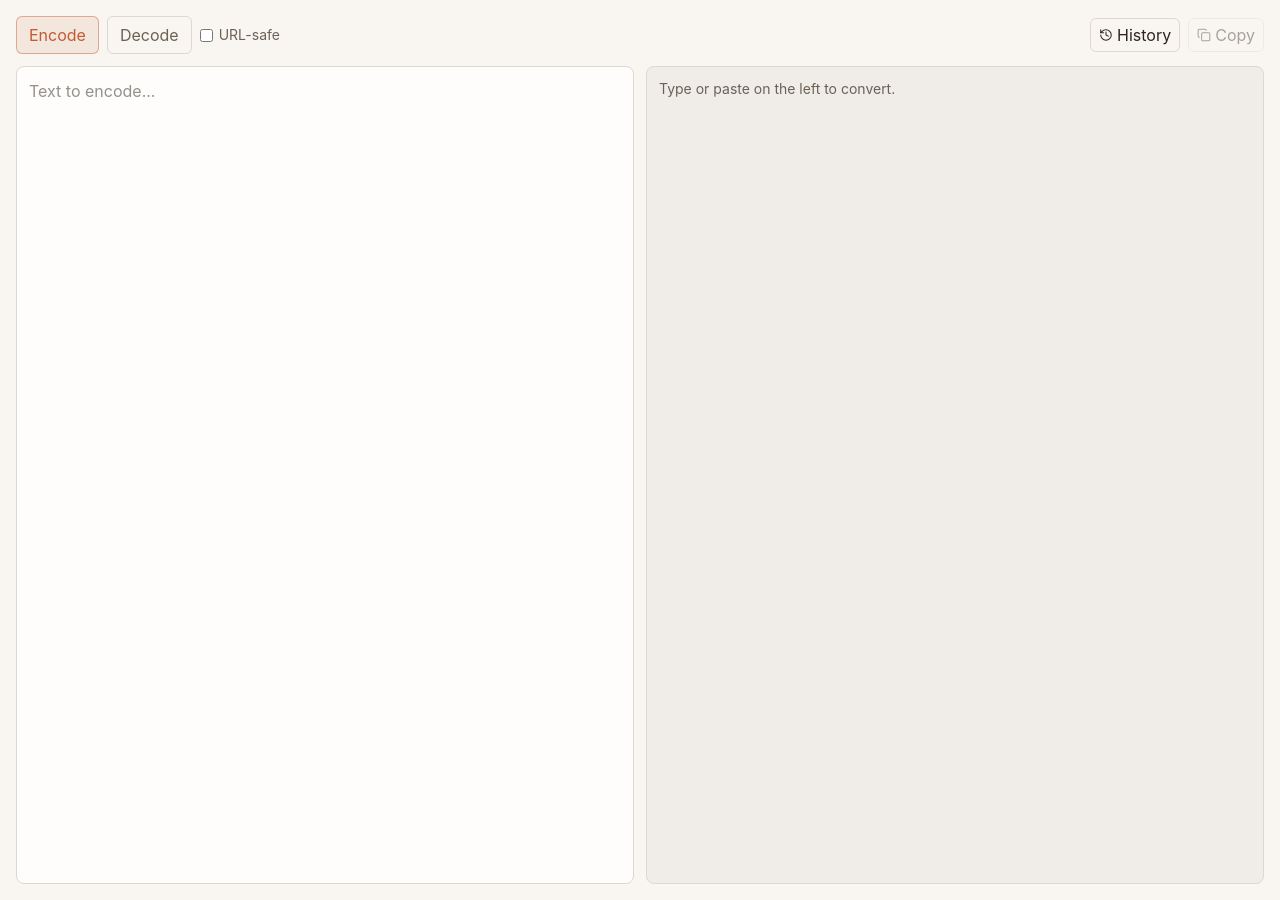
Test: Base64Tool › shows an error when decoding garbage
Click the button "Decode": (149, 35) top-left (107, 16), bottom-right (192, 54)
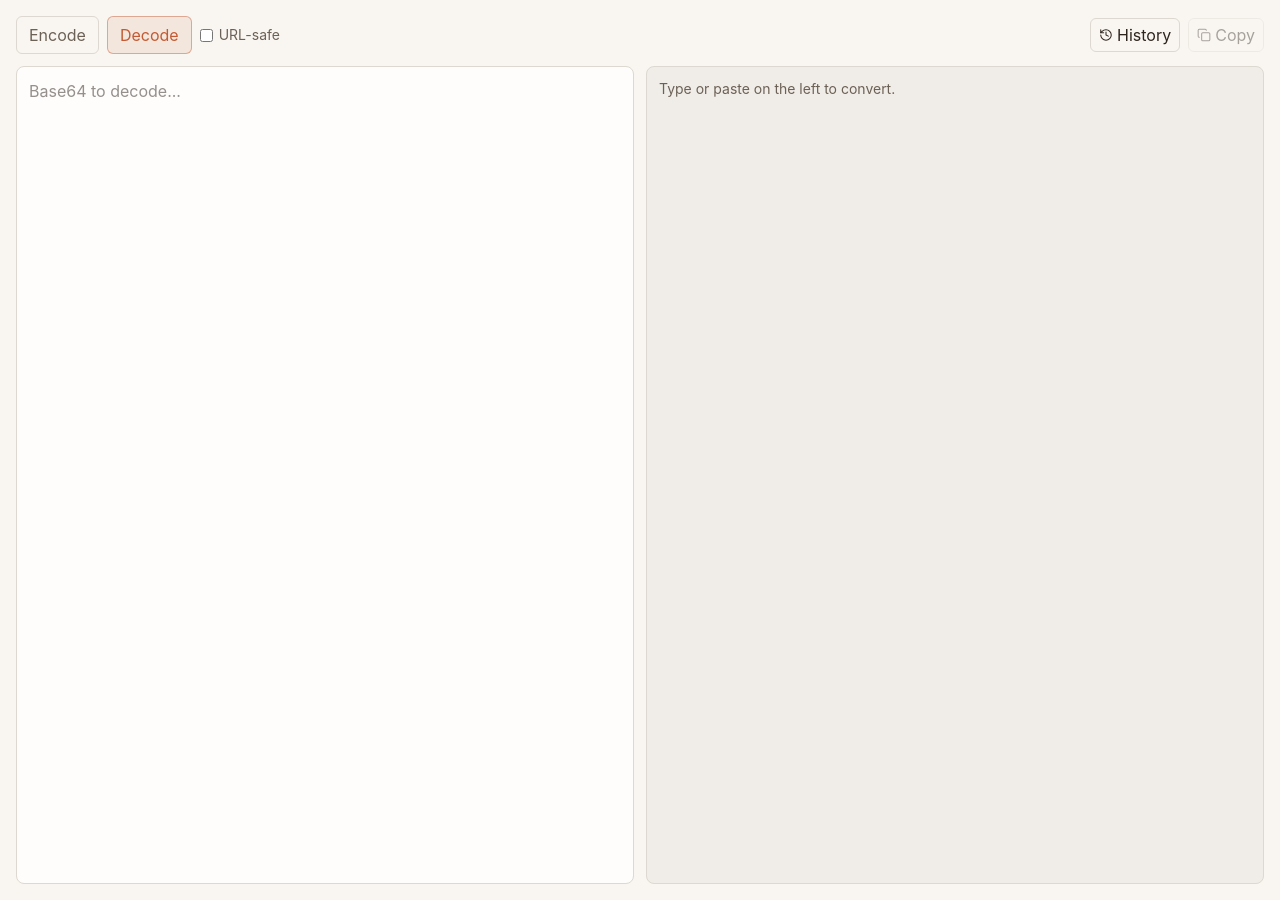
In the text box named "Base64 input": (325, 475) top-left (16, 66), bottom-right (634, 884), type "!!!"
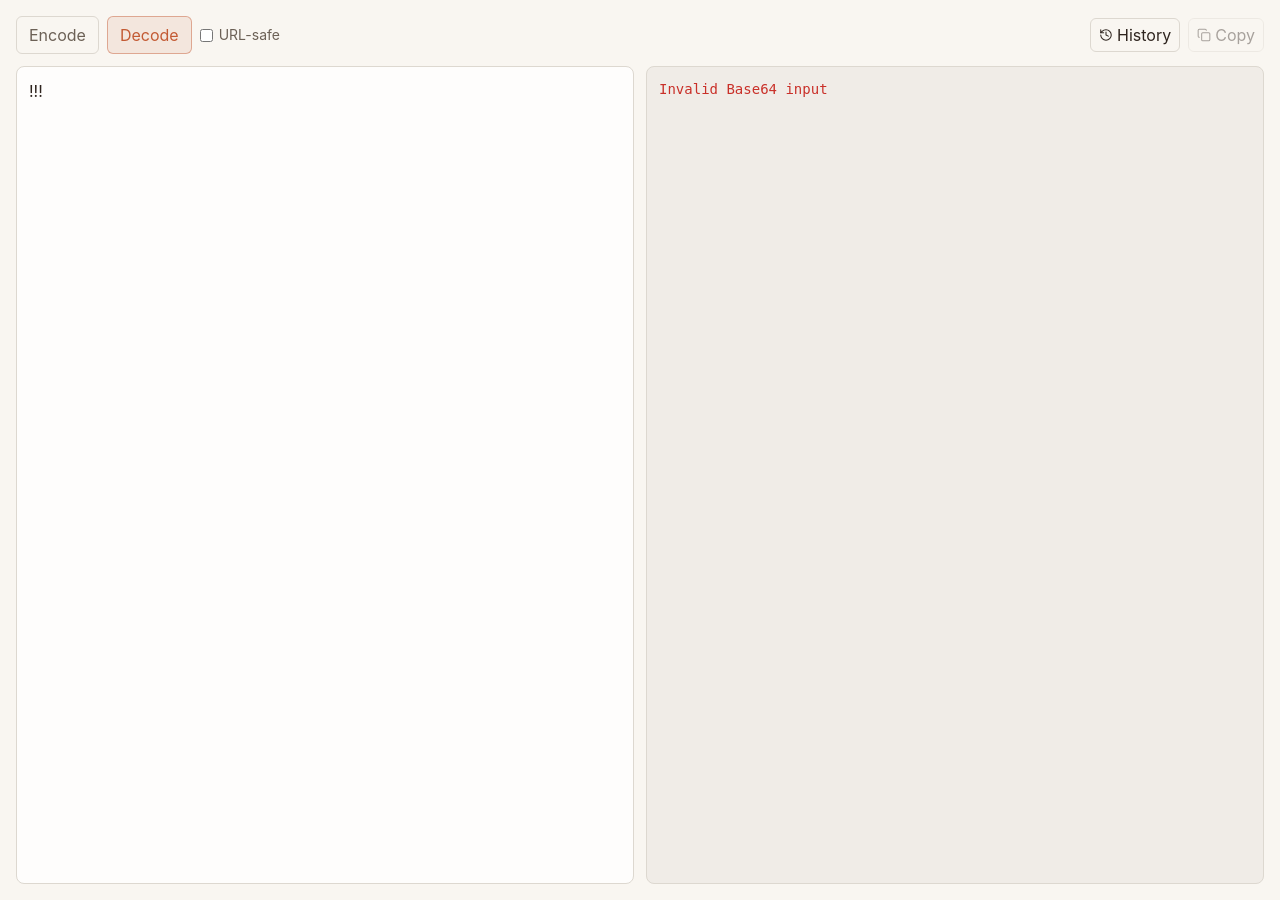
Check: the message "Invalid Base64 input" is shown, box top-left (659, 81), bottom-right (828, 97)
